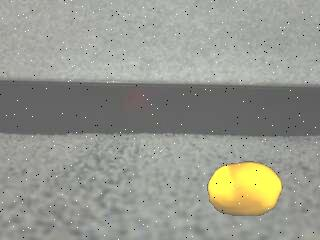Lemon: (208, 161, 284, 218)
